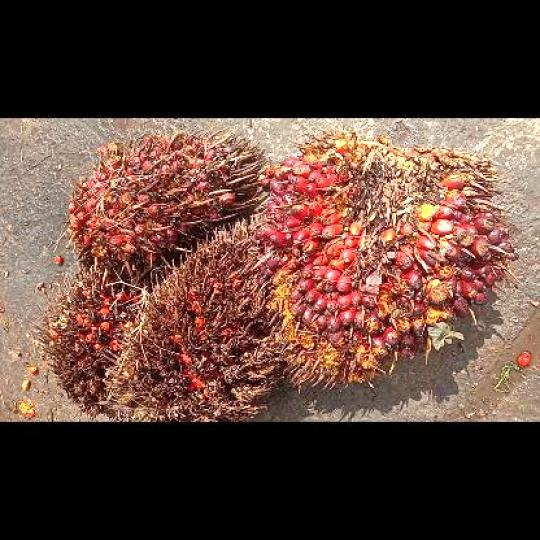masak: (237, 124, 518, 390), (67, 126, 265, 278)
terlalu masak: (101, 210, 286, 421), (32, 258, 150, 417)
